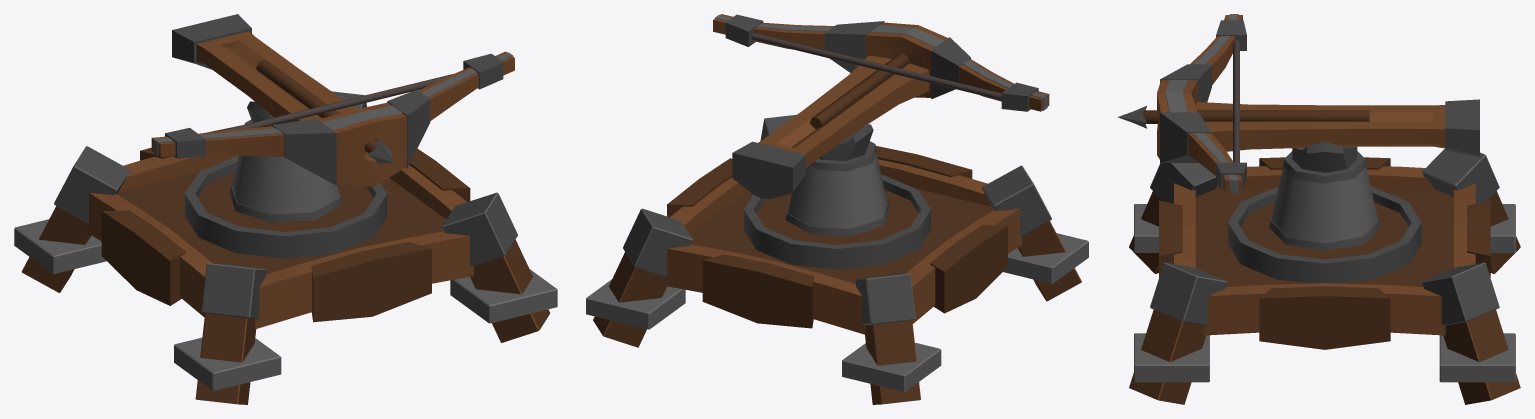
File: Ballista_T3.fbx
3 views of the same model, side by side, from view 1: azimuth 30°, elevation 25°; view 2: azimuth 150°, elevation 25°; view 3: azimuth 270°, elevation 25° (orthographic). The views are drawn at different scales.
Visible parts, largest first — view 1: TowerFoot.002, PlatformBase.002, Reinforcements, TowerBase.002, BowBody.002, IronStrengthening.002, BallistaBody.002, TowerRotator.002, WoodEnd.002, Bow_Strengthening, ArrowString.002, ArrowBody.002 (+1 smaller); view 2: TowerFoot.002, PlatformBase.002, Reinforcements, TowerBase.002, TowerRotator.002, BallistaBody.002, IronStrengthening.002, BowBody.002, WoodEnd.002, ArrowString.002, TowerRotatorReinforcer, Bow_Strengthening (+1 smaller); view 3: TowerFoot.002, PlatformBase.002, Reinforcements, TowerBase.002, BallistaBody.002, TowerRotator.002, IronStrengthening.002, BowBody.002, ArrowBody.002, TowerRotatorReinforcer, WoodEnd.002, Bow_Strengthening (+1 smaller).
Part boxes in pixels (x1=…): TowerFoot.002: x1=14, y1=91, x2=557, y2=404; PlatformBase.002: x1=86, y1=154, x2=473, y2=329; Reinforcements: x1=101, y1=125, x2=470, y2=322; TowerBase.002: x1=185, y1=156, x2=386, y2=258; BowBody.002: x1=151, y1=51, x2=514, y2=187; IronStrengthening.002: x1=165, y1=53, x2=503, y2=185; BallistaBody.002: x1=196, y1=31, x2=367, y2=155; TowerRotator.002: x1=232, y1=101, x2=339, y2=214; WoodEnd.002: x1=172, y1=14, x2=251, y2=69; Bow_Strengthening: x1=153, y1=52, x2=513, y2=155; ArrowString.002: x1=217, y1=74, x2=452, y2=131; ArrowBody.002: x1=256, y1=60, x2=377, y2=153; TowerFoot.002: x1=586, y1=114, x2=1088, y2=404; PlatformBase.002: x1=663, y1=159, x2=1021, y2=334; Reinforcements: x1=667, y1=146, x2=1007, y2=328; TowerBase.002: x1=744, y1=175, x2=930, y2=269; TowerRotator.002: x1=788, y1=124, x2=887, y2=228; BallistaBody.002: x1=758, y1=55, x2=929, y2=168; IronStrengthening.002: x1=725, y1=14, x2=1038, y2=111; BowBody.002: x1=713, y1=14, x2=1049, y2=111; WoodEnd.002: x1=732, y1=141, x2=805, y2=199; ArrowString.002: x1=752, y1=33, x2=1001, y2=100; TowerRotatorReinforcer: x1=785, y1=141, x2=889, y2=236; Bow_Strengthening: x1=714, y1=15, x2=1047, y2=110; TowerFoot.002: x1=1129, y1=149, x2=1520, y2=404; PlatformBase.002: x1=1174, y1=166, x2=1475, y2=335; Reinforcements: x1=1159, y1=157, x2=1490, y2=349; TowerBase.002: x1=1228, y1=187, x2=1421, y2=283; BallistaBody.002: x1=1195, y1=102, x2=1445, y2=151; TowerRotator.002: x1=1271, y1=141, x2=1377, y2=242; IronStrengthening.002: x1=1160, y1=20, x2=1246, y2=189; BowBody.002: x1=1157, y1=15, x2=1242, y2=192; ArrowBody.002: x1=1143, y1=110, x2=1369, y2=123; TowerRotatorReinforcer: x1=1269, y1=151, x2=1380, y2=250; WoodEnd.002: x1=1445, y1=99, x2=1479, y2=157; Bow_Strengthening: x1=1165, y1=14, x2=1238, y2=193.
Bounding box in the file's own units: 183 × 123 × 187.
